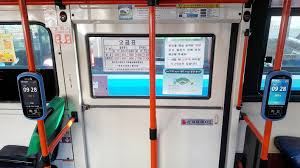in: (69, 15, 236, 168)
